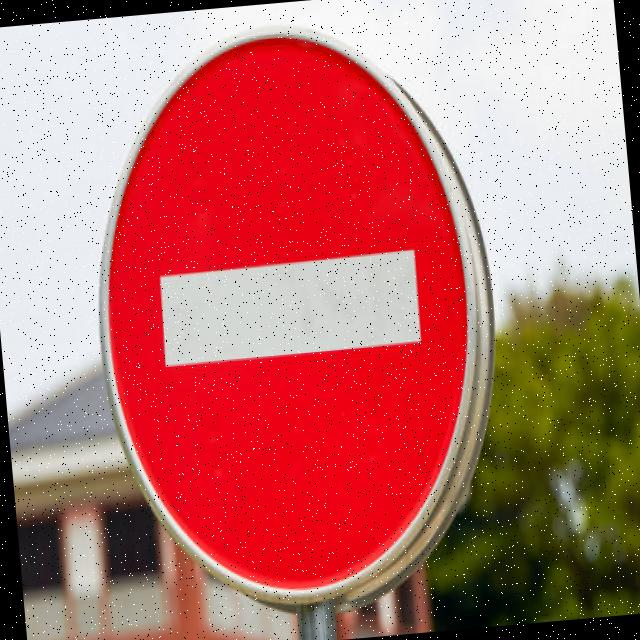do_not_enter: (77, 0, 526, 640)
